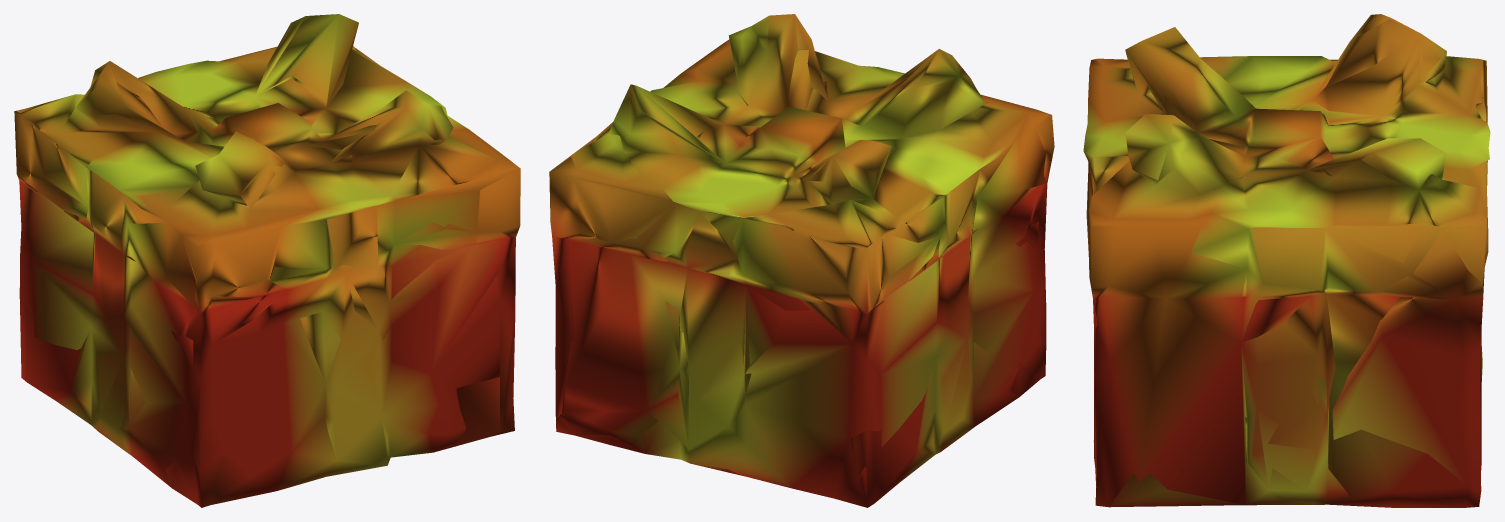
The model's file is gen3d-gift-box-lod0.glb.
3 renders of one model, left to right at view 1: azimuth 30°, elevation 25°; view 2: azimuth 150°, elevation 25°; view 3: azimuth 270°, elevation 25°, orthographic. The views are drawn at different scales.
Parts seen in each view (by area): view 1: part_0; view 2: part_0; view 3: part_0.
Part boxes in pixels (x1,y1,x2,y2): part_0: (14, 14, 520, 507); part_0: (549, 14, 1054, 507); part_0: (1083, 14, 1490, 507).
Size of the model in its own units: 1.03 by 0.9998 by 1.03.
